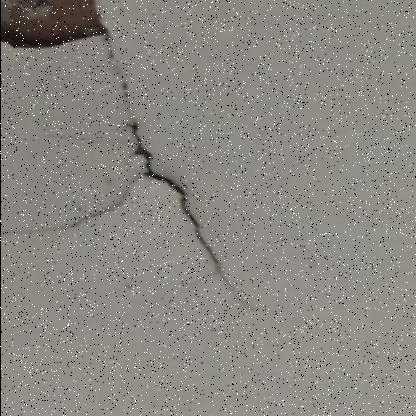Crack: (1, 0, 278, 367)
